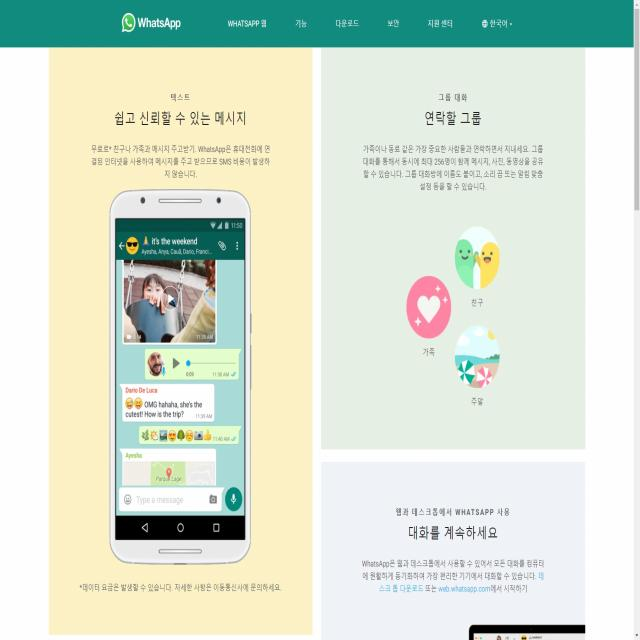menu-bar: (222, 11, 516, 34)
